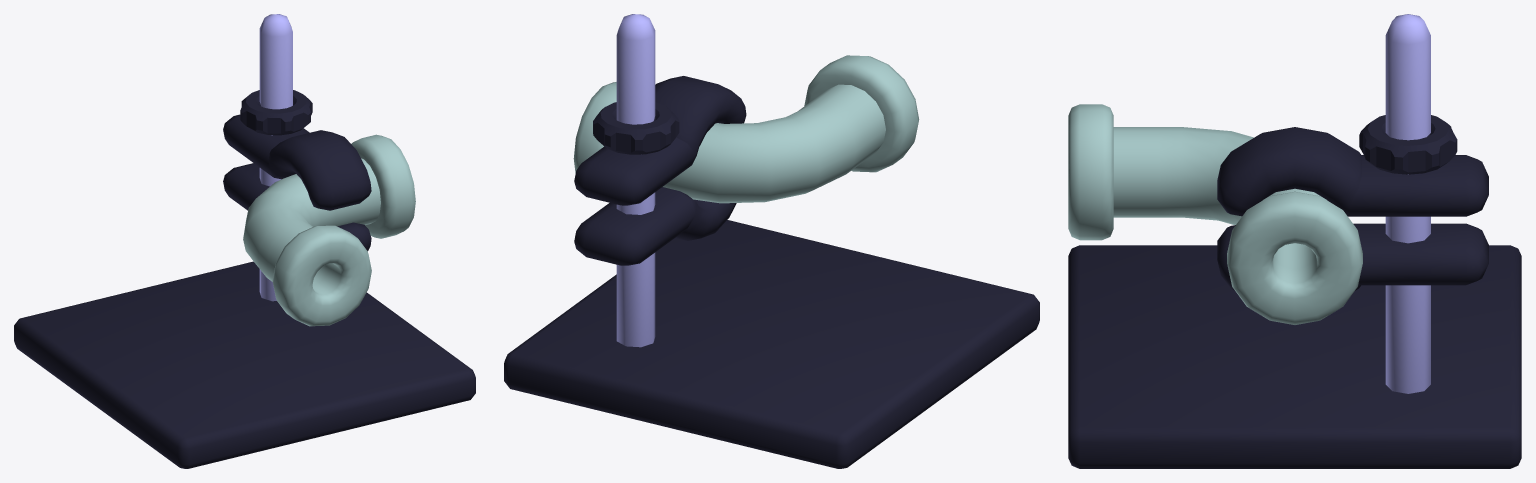
Rendered from LastLuna_Model_Station_Pipe_Curve.fbx.
3 views of the same model, side by side, from view 1: azimuth 30°, elevation 25°; view 2: azimuth 150°, elevation 25°; view 3: azimuth 270°, elevation 25° (orthographic). The views are drawn at different scales.
Parts seen in each view (by area): view 1: Stand_Base_Small001, Pipe_Curve001, Pipe_Arm_Clamp_Upper001, Stand_Pole_Small001, Pipe_Arm_Clamp_Handle001, Pipe_Arm_Clamp_Lower001; view 2: Stand_Base_Small001, Pipe_Curve001, Pipe_Arm_Clamp_Upper001, Stand_Pole_Small001, Pipe_Arm_Clamp_Lower001, Pipe_Arm_Clamp_Handle001; view 3: Stand_Base_Small001, Pipe_Curve001, Pipe_Arm_Clamp_Upper001, Stand_Pole_Small001, Pipe_Arm_Clamp_Lower001, Pipe_Arm_Clamp_Handle001.
Part boxes in pixels (box(x1,y1,x2,y2)): Stand_Base_Small001: box(14, 261, 475, 468); Pipe_Curve001: box(243, 134, 415, 326); Pipe_Arm_Clamp_Upper001: box(223, 114, 371, 210); Stand_Pole_Small001: box(259, 14, 292, 301); Pipe_Arm_Clamp_Handle001: box(240, 90, 312, 135); Pipe_Arm_Clamp_Lower001: box(223, 163, 371, 250); Stand_Base_Small001: box(504, 220, 1039, 468); Pipe_Curve001: box(573, 55, 919, 203); Pipe_Arm_Clamp_Upper001: box(574, 76, 746, 205); Stand_Pole_Small001: box(616, 14, 655, 347); Pipe_Arm_Clamp_Lower001: box(574, 187, 736, 265); Pipe_Arm_Clamp_Handle001: box(593, 102, 679, 154); Stand_Base_Small001: box(1068, 245, 1521, 468); Pipe_Curve001: box(1068, 104, 1362, 324); Pipe_Arm_Clamp_Upper001: box(1217, 127, 1488, 216); Stand_Pole_Small001: box(1385, 14, 1430, 393); Pipe_Arm_Clamp_Lower001: box(1217, 223, 1488, 290); Pipe_Arm_Clamp_Handle001: box(1359, 115, 1457, 174).
Size of the model in its own units: 100 by 100 by 100.
